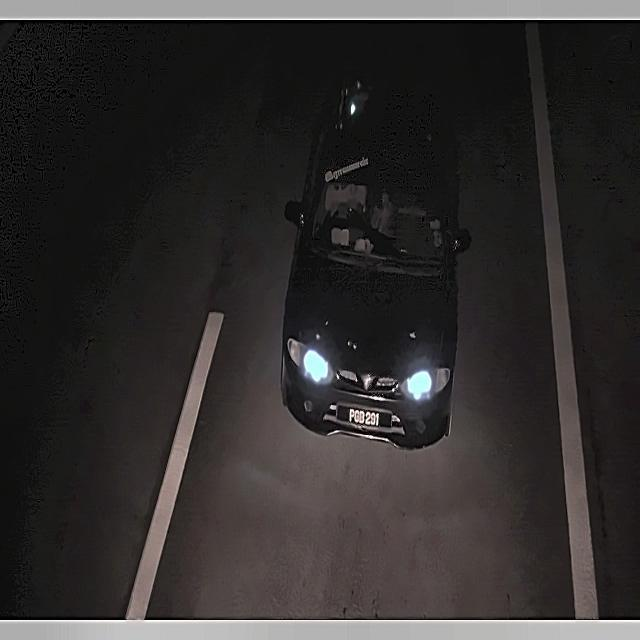car: (338, 399, 387, 437)
